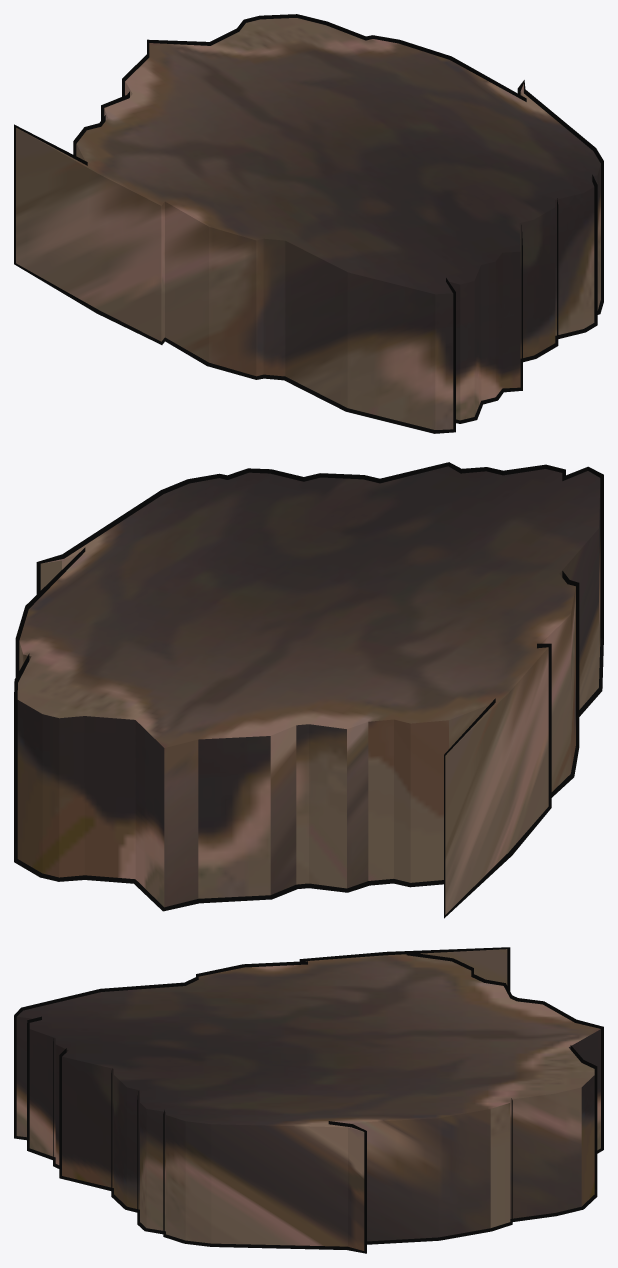
Rendered from Building_PitBurrow_Things_Building_PitBurrow_PitBurrowC.glb.
3 views of the same model, one above another, from view 1: azimuth 30°, elevation 25°; view 2: azimuth 150°, elevation 25°; view 3: azimuth 270°, elevation 25° (orthographic). The views are drawn at different scales.
Parts seen in each view (by area): view 1: Body, Outline; view 2: Body, Outline; view 3: Body, Outline.
Boxes of the visible parts, bbox=[...] form: Body: bbox=[16, 18, 600, 429]; Outline: bbox=[14, 14, 603, 433]; Body: bbox=[17, 466, 600, 914]; Outline: bbox=[14, 462, 603, 918]; Body: bbox=[16, 949, 600, 1250]; Outline: bbox=[14, 947, 603, 1253].
Size of the model in its own units: 0.9345 by 0.2984 by 1.27.
2 materials, 1 textured.
